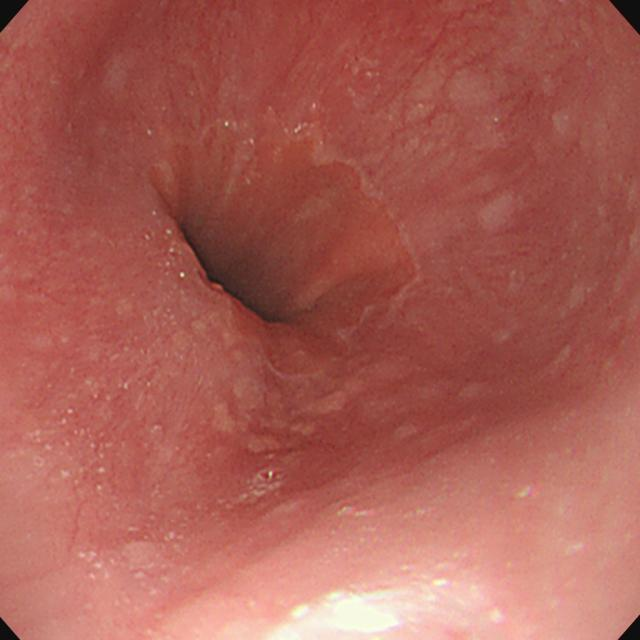I: (132, 102, 429, 401)
U: (305, 589, 405, 634)
